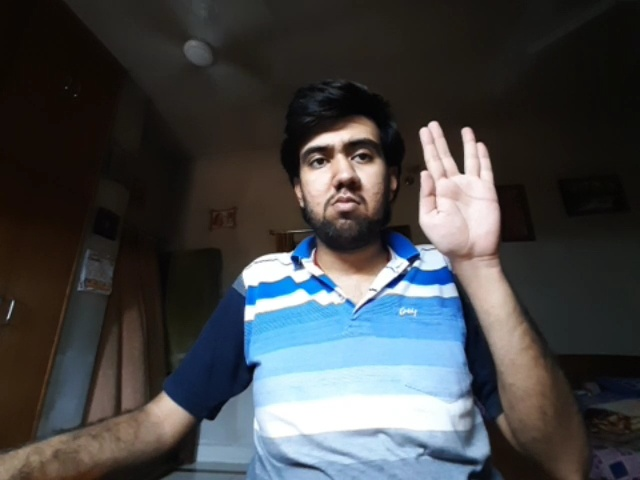LiveLong: (419, 120, 502, 255)
